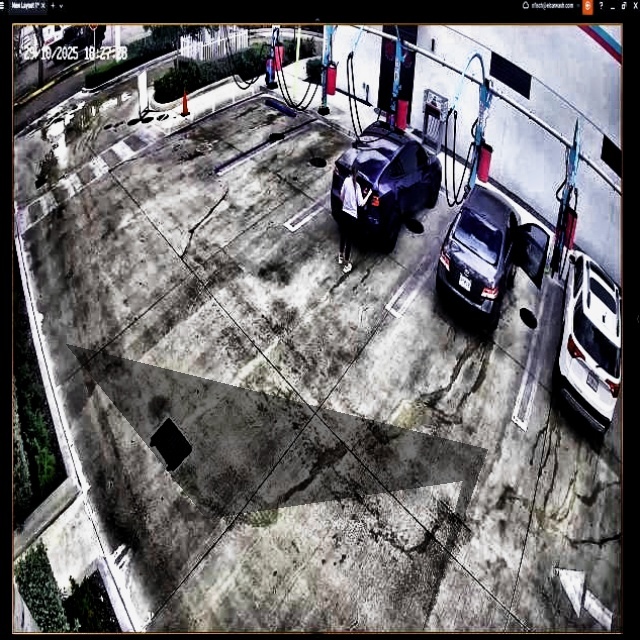Car: (436, 182, 546, 329), (330, 121, 441, 246)
